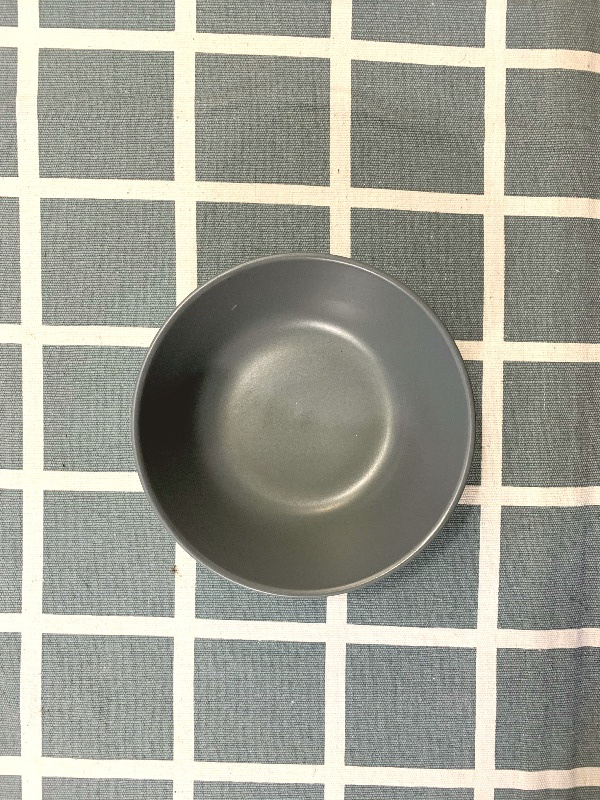bowl_big: (126, 243, 489, 620)
